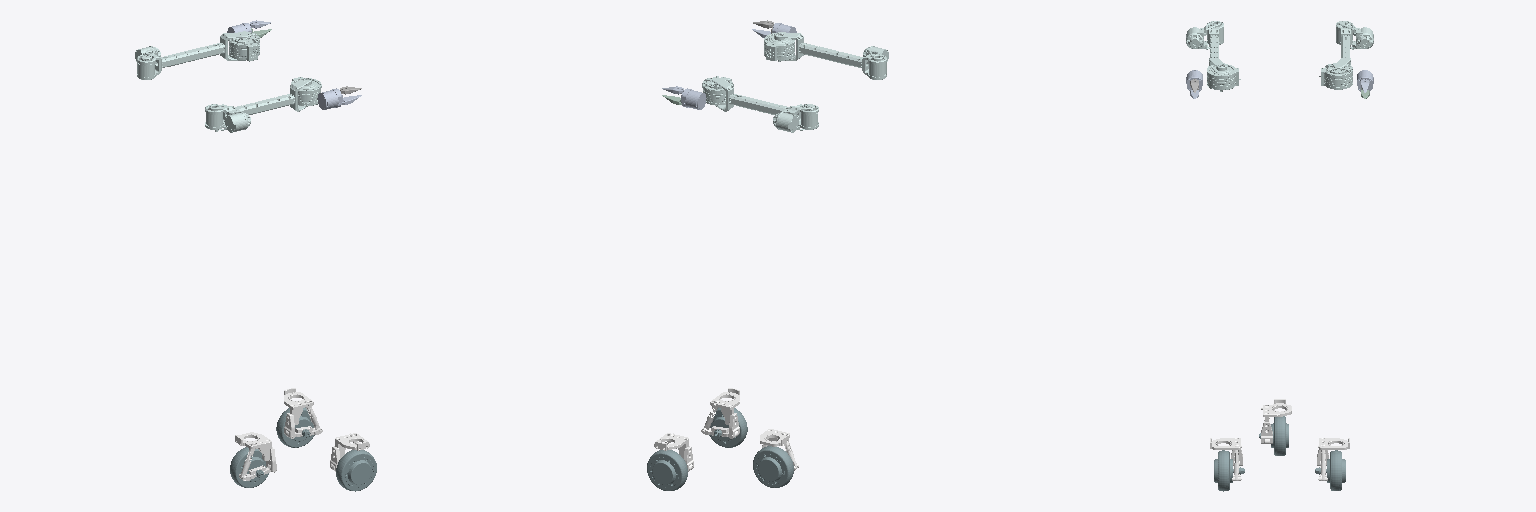
--- What the picture shows (computed from the rendered views, not written in the file) ---
The picture shows the robot from 3 angles, left to right: view 1: azimuth 30°, elevation 25°; view 2: azimuth 150°, elevation 25°; view 3: azimuth 270°, elevation 25°; orthographic projection.
Robot: r1urdfv20 — 24 links, 23 joints (15 revolute, 3 continuous, 4 prismatic, 1 fixed); root link base_link; default pose: all joints at 0.
Links seen in each view (by area): view 1: left_arm_2_Link, front_right_wheel_Link, right_arm_2_Link, rear_turn_Link, front_left_turn_Link, rear_wheel_Link, front_left_wheel_Link, left_arm_1_Link, front_right_turn_Link, right_arm_3_Link; view 2: right_arm_2_Link, rear_wheel_Link, front_left_wheel_Link, left_arm_2_Link, front_right_turn_Link, front_right_wheel_Link, right_arm_1_Link, front_left_turn_Link, left_arm_3_Link, rear_turn_Link, left_arm_1_Link; view 3: left_arm_1_Link, right_arm_1_Link, front_right_wheel_Link, front_left_wheel_Link, rear_turn_Link, front_right_turn_Link, front_left_turn_Link, rear_wheel_Link, right_arm_2_Link, left_arm_2_Link.
Boxes of the visible links, x1,y1,x2,y2 form: left_arm_2_Link: [137, 32, 249, 79]; front_right_wheel_Link: [336, 450, 376, 491]; right_arm_2_Link: [205, 78, 311, 129]; rear_turn_Link: [235, 432, 276, 480]; front_left_turn_Link: [284, 388, 322, 438]; rear_wheel_Link: [230, 447, 268, 487]; front_left_wheel_Link: [276, 407, 314, 447]; left_arm_1_Link: [229, 31, 259, 61]; front_right_turn_Link: [330, 433, 369, 471]; right_arm_3_Link: [209, 104, 250, 132]; right_arm_2_Link: [774, 32, 886, 79]; rear_wheel_Link: [753, 446, 793, 487]; front_left_wheel_Link: [647, 450, 687, 490]; left_arm_2_Link: [712, 78, 818, 129]; front_right_turn_Link: [701, 388, 739, 438]; front_right_wheel_Link: [709, 407, 747, 447]; right_arm_1_Link: [764, 33, 794, 61]; front_left_turn_Link: [654, 433, 693, 471]; left_arm_3_Link: [773, 104, 814, 132]; rear_turn_Link: [760, 429, 798, 470]; left_arm_1_Link: [702, 76, 733, 105]; left_arm_1_Link: [1319, 63, 1352, 89]; right_arm_1_Link: [1207, 64, 1240, 91]; front_right_wheel_Link: [1214, 450, 1244, 491]; front_left_wheel_Link: [1315, 450, 1345, 490]; rear_turn_Link: [1261, 399, 1291, 443]; front_right_turn_Link: [1210, 438, 1242, 480]; front_left_turn_Link: [1317, 438, 1349, 480]; rear_wheel_Link: [1259, 416, 1288, 455]; right_arm_2_Link: [1207, 21, 1226, 70]; left_arm_2_Link: [1333, 21, 1352, 68].
Bounding box of the posed robot: 0.6387 × 0.635 × 1.49 m (x, y, z).
18 mesh visuals loaded from 24 distinct referenced files (18 binary STL); not drawn: 6 (reference not matched to a file when rendering).

URDF robot description (r1urdfv20):
<?xml version="1.0" encoding="utf-8"?>
<!-- This URDF was automatically created by SolidWorks to URDF Exporter! Originally created by Stephen Brawner ([email redacted]) 
     Commit Version: 1.6.0-4-g7f85cfe  Build Version: 1.6.7995.38578
     For more information, please see http://wiki.ros.org/sw_urdf_exporter -->
<robot
  name="r1urdfv20">
  <link
    name="base_link">
    <inertial>
      <origin
        xyz="-0.026382 -0.0012728 0.5966"
        rpy="0 0 0" />
      <mass
        value="15.491" />
      <inertia
        ixx="0.13933"
        ixy="-3.1833E-06"
        ixz="-7.9787E-05"
        iyy="0.090681"
        iyz="-1.7144E-05"
        izz="0.074444" />
    </inertial>
    <visual>
      <origin
        xyz="0 0 0"
        rpy="0 0 0" />
      <geometry>
        <mesh
          filename="package://r1urdfv20/meshes/base_link.STL" />
      </geometry>
      <material
        name="">
        <color
          rgba="0.6 0.6 0.6 1" />
      </material>
    </visual>
    <collision>
      <origin
        xyz="0 0 0"
        rpy="0 0 0" />
      <geometry>
        <mesh
          filename="package://r1urdfv20/meshes/base_link.STL" />
      </geometry>
    </collision>
  </link>
  <link
    name="right_arm_1_Link">
    <inertial>
      <origin
        xyz="0.00048295 0.066513 -4.391E-05"
        rpy="0 0 0" />
      <mass
        value="0.3988" />
      <inertia
        ixx="0.00047196"
        ixy="2.0689E-07"
        ixz="-1.1491E-08"
        iyy="0.00029232"
        iyz="3.8468E-09"
        izz="0.00029753" />
    </inertial>
    <visual>
      <origin
        xyz="0 0 0"
        rpy="0 0 0" />
      <geometry>
        <mesh
          filename="package://r1urdfv20/meshes/right_arm_1_Link.STL" />
      </geometry>
      <material
        name="">
        <color
          rgba="0.86275 0.93333 0.92941 1" />
      </material>
    </visual>
    <collision>
      <origin
        xyz="0 0 0"
        rpy="0 0 0" />
      <geometry>
        <mesh
          filename="package://r1urdfv20/meshes/right_arm_1_Link.STL" />
      </geometry>
    </collision>
  </link>
  <joint
    name="right_arm_1"
    type="revolute">
    <origin
      xyz="-0.055 -0.1293 1.375"
      rpy="3.1416 1.5708 0" />
    <parent
      link="base_link" />
    <child
      link="right_arm_1_Link" />
    <axis
      xyz="0 1 0" />
    <limit
      lower="-2.9671"
      upper="2.9671"
      effort="40"
      velocity="20.944" />
  </joint>
  <link
    name="right_arm_2_Link">
    <inertial>
      <origin
        xyz="0.242 0.032943 -0.021091"
        rpy="0 0 0" />
      <mass
        value="0.3043" />
      <inertia
        ixx="8.211E-05"
        ixy="-8.0136E-07"
        ixz="7.5433E-06"
        iyy="0.0004609"
        iyz="3.4645E-07"
        izz="0.00043677" />
    </inertial>
    <visual>
      <origin
        xyz="0 0 0"
        rpy="0 0 0" />
      <geometry>
        <mesh
          filename="package://r1urdfv20/meshes/right_arm_2_Link.STL" />
      </geometry>
      <material
        name="">
        <color
          rgba="0.86275 0.93333 0.92941 1" />
      </material>
    </visual>
    <collision>
      <origin
        xyz="0 0 0"
        rpy="0 0 0" />
      <geometry>
        <mesh
          filename="package://r1urdfv20/meshes/right_arm_2_Link.STL" />
      </geometry>
    </collision>
  </link>
  <joint
    name="right_arm_2"
    type="revolute">
    <origin
      xyz="0.0316 0.0682 0"
      rpy="1.5708 -1.5708 0" />
    <parent
      link="right_arm_1_Link" />
    <child
      link="right_arm_2_Link" />
    <axis
      xyz="0 1 0" />
    <limit
      lower="0"
      upper="3.1416"
      effort="40"
      velocity="20.944" />
  </joint>
  <link
    name="right_arm_3_Link">
    <inertial>
      <origin
        xyz="0.056289 0.028703 0.046011"
        rpy="0 0 0" />
      <mass
        value="0.17673" />
      <inertia
        ixx="7.1112E-05"
        ixy="7.7555E-08"
        ixz="-1.3314E-05"
        iyy="7.316E-05"
        iyz="1.5614E-07"
        izz="7.8276E-05" />
    </inertial>
    <visual>
      <origin
        xyz="0 0 0"
        rpy="0 0 0" />
      <geometry>
        <mesh
          filename="package://r1urdfv20/meshes/right_arm_3_Link.STL" />
      </geometry>
      <material
        name="">
        <color
          rgba="0.86275 0.93333 0.92941 1" />
      </material>
    </visual>
    <collision>
      <origin
        xyz="0 0 0"
        rpy="0 0 0" />
      <geometry>
        <mesh
          filename="package://r1urdfv20/meshes/right_arm_3_Link.STL" />
      </geometry>
    </collision>
  </link>
  <joint
    name="right_arm_3"
    type="revolute">
    <origin
      xyz="0.3493 0.0602 -0.02"
      rpy="0 1.6424 3.1416" />
    <parent
      link="right_arm_2_Link" />
    <child
      link="right_arm_3_Link" />
    <axis
      xyz="0 -1 0" />
    <limit
      lower="-3.2289"
      upper="0"
      effort="27"
      velocity="7.5398" />
  </joint>
  <link
    name="right_arm_4_Link">
    <inertial>
      <origin
        xyz="-0.00011589 -0.00095341 0.1625"
        rpy="0 0 0" />
      <mass
        value="0.1739" />
      <inertia
        ixx="9.6664E-05"
        ixy="-1.1432E-08"
        ixz="2.2087E-08"
        iyy="0.00010742"
        iyz="8.1899E-08"
        izz="4.3082E-05" />
    </inertial>
    <visual>
      <origin
        xyz="0 0 0"
        rpy="0 0 0" />
      <geometry>
        <mesh
          filename="package://r1urdfv20/meshes/right_arm_4_Link.STL" />
      </geometry>
      <material
        name="">
        <color
          rgba="0.80784 0.84314 0.90588 1" />
      </material>
    </visual>
    <collision>
      <origin
        xyz="0 0 0"
        rpy="0 0 0" />
      <geometry>
        <mesh
          filename="package://r1urdfv20/meshes/right_arm_4_Link.STL" />
      </geometry>
    </collision>
  </link>
  <joint
    name="right_arm_4"
    type="revolute">
    <origin
      xyz="0.064765 0.0286 0.075477"
      rpy="-0.071618 0 1.5708" />
    <parent
      link="right_arm_3_Link" />
    <child
      link="right_arm_4_Link" />
    <axis
      xyz="0 0 1" />
    <limit
      lower="-2.9671"
      upper="2.9671"
      effort="7"
      velocity="25.133" />
  </joint>
  <link
    name="right_arm_5_Link">
    <inertial>
      <origin
        xyz="0.053183 7.0332E-05 -0.015834"
        rpy="0 0 0" />
      <mass
        value="0.12576" />
      <inertia
        ixx="4.7409E-05"
        ixy="-1.1419E-08"
        ixz="-1.355E-07"
        iyy="3.8455E-05"
        iyz="2.2091E-08"
        izz="4.0187E-05" />
    </inertial>
    <visual>
      <origin
        xyz="0 0 0"
        rpy="0 0 0" />
      <geometry>
        <mesh
          filename="package://r1urdfv20/meshes/right_arm_5_Link.STL" />
      </geometry>
      <material
        name="">
        <color
          rgba="0.80784 0.84314 0.90588 1" />
      </material>
    </visual>
    <collision>
      <origin
        xyz="0 0 0"
        rpy="0 0 0" />
      <geometry>
        <mesh
          filename="package://r1urdfv20/meshes/right_arm_5_Link.STL" />
      </geometry>
    </collision>
  </link>
  <joint
    name="right_arm_5"
    type="revolute">
    <origin
      xyz="0 -0.019 0.203"
      rpy="1.5708 -1.5708 0" />
    <parent
      link="right_arm_4_Link" />
    <child
      link="right_arm_5_Link" />
    <axis
      xyz="0 0 1" />
    <limit
      lower="-1.5708"
      upper="1.5708"
      effort="7"
      velocity="25.133" />
  </joint>
  <link
    name="right_arm_6_Link">
    <inertial>
      <origin
        xyz="9.006E-05 -0.015875 1.5779E-05"
        rpy="0 0 0" />
      <mass
        value="0.12251" />
      <inertia
        ixx="3.7405E-05"
        ixy="-1.1418E-08"
        ixz="-2.2072E-08"
        iyy="5.199E-05"
        iyz="-2.2628E-12"
        izz="3.9632E-05" />
    </inertial>
    <visual>
      <origin
        xyz="0 0 0"
        rpy="0 0 0" />
      <geometry>
        <mesh
          filename="package://r1urdfv20/meshes/right_arm_6_Link.STL" />
      </geometry>
      <material
        name="">
        <color
          rgba="0.80784 0.84314 0.90588 1" />
      </material>
    </visual>
    <collision>
      <origin
        xyz="0 0 0"
        rpy="0 0 0" />
      <geometry>
        <mesh
          filename="package://r1urdfv20/meshes/right_arm_6_Link.STL" />
      </geometry>
    </collision>
  </link>
  <joint
    name="right_arm_6"
    type="revolute">
    <origin
      xyz="0.127 0 -0.019"
      rpy="0 0 -1.5708" />
    <parent
      link="right_arm_5_Link" />
    <child
      link="right_arm_6_Link" />
    <axis
      xyz="0 1 0" />
    <limit
      lower="-3.1416"
      upper="3.1416"
      effort="7"
      velocity="25.133" />
  </joint>
  <link
    name="right_gripper_1_Link">
    <inertial>
      <origin
        xyz="0.0151 0.046663 0.0013002"
        rpy="0 0 0" />
      <mass
        value="0.02084" />
      <inertia
        ixx="5.3593E-06"
        ixy="3.2105E-07"
        ixz="8.4132E-08"
        iyy="1.6486E-06"
        iyz="8.4389E-08"
        izz="4.7101E-06" />
    </inertial>
    <visual>
      <origin
        xyz="0 0 0"
        rpy="0 0 0" />
      <geometry>
        <mesh
          filename="package://r1urdfv20/meshes/right_gripper_1_Link.STL" />
      </geometry>
      <material
        name="">
        <color
          rgba="0.80784 0.84314 0.90588 1" />
      </material>
    </visual>
    <collision>
      <origin
        xyz="0 0 0"
        rpy="0 0 0" />
      <geometry>
        <mesh
          filename="package://r1urdfv20/meshes/right_gripper_1_Link.STL" />
      </geometry>
    </collision>
  </link>
  <joint
    name="right_gripper_1"
    type="prismatic">
    <origin
      xyz="0 0 0"
      rpy="0 0 0" />
    <parent
      link="right_arm_6_Link" />
    <child
      link="right_gripper_1_Link" />
    <axis
      xyz="1 0 0" />
    <limit
      lower="-0.01139"
      upper="0.01861"
      effort="200"
      velocity="0.25" />
  </joint>
  <link
    name="right_gripper_2_Link">
    <inertial>
      <origin
        xyz="-0.0151 0.046663 -0.0013002"
        rpy="0 0 0" />
      <mass
        value="0.02084" />
      <inertia
        ixx="5.3593E-06"
        ixy="-3.2105E-07"
        ixz="8.4132E-08"
        iyy="1.6486E-06"
        iyz="-8.439E-08"
        izz="4.7101E-06" />
    </inertial>
    <visual>
      <origin
        xyz="0 0 0"
        rpy="0 0 0" />
      <geometry>
        <mesh
          filename="package://r1urdfv20/meshes/right_gripper_2_Link.STL" />
      </geometry>
      <material
        name="">
        <color
          rgba="0.75294 0.75294 0.75294 1" />
      </material>
    </visual>
    <collision>
      <origin
        xyz="0 0 0"
        rpy="0 0 0" />
      <geometry>
        <mesh
          filename="package://r1urdfv20/meshes/right_gripper_2_Link.STL" />
      </geometry>
    </collision>
  </link>
  <joint
    name="right_gripper_2"
    type="prismatic">
    <origin
      xyz="0 0 0"
      rpy="0 0 0" />
    <parent
      link="right_arm_6_Link" />
    <child
      link="right_gripper_2_Link" />
    <axis
      xyz="-1 0 0" />
    <limit
      lower="-0.01139"
      upper="0.01861"
      effort="200"
      velocity="0.25" />
  </joint>
  <link
    name="left_arm_1_Link">
    <inertial>
      <origin
        xyz="0.00048295 -0.066513 4.391E-05"
        rpy="0 0 0" />
      <mass
        value="0.3988" />
      <inertia
        ixx="0.00047196"
        ixy="-2.0689E-07"
        ixz="1.1491E-08"
        iyy="0.00029232"
        iyz="3.8468E-09"
        izz="0.00029753" />
    </inertial>
    <visual>
      <origin
        xyz="0 0 0"
        rpy="0 0 0" />
      <geometry>
        <mesh
          filename="package://r1urdfv20/meshes/left_arm_1_Link.STL" />
      </geometry>
      <material
        name="">
        <color
          rgba="0.86275 0.93333 0.92941 1" />
      </material>
    </visual>
    <collision>
      <origin
        xyz="0 0 0"
        rpy="0 0 0" />
      <geometry>
        <mesh
          filename="package://r1urdfv20/meshes/left_arm_1_Link.STL" />
      </geometry>
    </collision>
  </link>
  <joint
    name="left_arm_1"
    type="revolute">
    <origin
      xyz="-0.055 0.1293 1.375"
      rpy="0 -1.5708 3.14159265358979" />
    <parent
      link="base_link" />
    <child
      link="left_arm_1_Link" />
    <axis
      xyz="0 -1 0" />
    <limit
      lower="-2.9671"
      upper="2.9671"
      effort="40"
      velocity="20.944" />
  </joint>
  <link
    name="left_arm_2_Link">
    <inertial>
      <origin
        xyz="0.242 0.032943 -0.021091"
        rpy="0 0 0" />
      <mass
        value="0.3043" />
      <inertia
        ixx="8.211E-05"
        ixy="-8.0136E-07"
        ixz="7.5433E-06"
        iyy="0.0004609"
        iyz="3.4645E-07"
        izz="0.00043677" />
    </inertial>
    <visual>
      <origin
        xyz="0 0 0"
        rpy="0 0 0" />
      <geometry>
        <mesh
          filename="package://r1urdfv20/meshes/left_arm_2_Link.STL" />
      </geometry>
      <material
        name="">
        <color
          rgba="0.86275 0.93333 0.92941 1" />
      </material>
    </visual>
    <collision>
      <origin
        xyz="0 0 0"
        rpy="0 0 0" />
      <geometry>
        <mesh
          filename="package://r1urdfv20/meshes/left_arm_2_Link.STL" />
      </geometry>
    </collision>
  </link>
  <joint
    name="left_arm_2"
    type="revolute">
    <origin
      xyz="0.0316 -0.0682 0"
      rpy="-1.5708 1.5708 0" />
    <parent
      link="left_arm_1_Link" />
    <child
      link="left_arm_2_Link" />
    <axis
      xyz="0 1 0" />
    <limit
      lower="0"
      upper="3.1416"
      effort="40"
      velocity="20.944" />
  </joint>
  <link
    name="left_arm_3_Link">
    <inertial>
      <origin
        xyz="0.056289 0.028703 0.046011"
        rpy="0 0 0" />
      <mass
        value="0.17673" />
      <inertia
        ixx="7.1112E-05"
        ixy="7.755E-08"
        ixz="-1.3314E-05"
        iyy="7.316E-05"
        iyz="1.5613E-07"
        izz="7.8276E-05" />
    </inertial>
    <visual>
      <origin
        xyz="0 0 0"
        rpy="0 0 0" />
      <geometry>
        <mesh
          filename="package://r1urdfv20/meshes/left_arm_3_Link.STL" />
      </geometry>
      <material
        name="">
        <color
          rgba="0.86275 0.93333 0.92941 1" />
      </material>
    </visual>
    <collision>
      <origin
        xyz="0 0 0"
        rpy="0 0 0" />
      <geometry>
        <mesh
          filename="package://r1urdfv20/meshes/left_arm_3_Link.STL" />
      </geometry>
    </collision>
  </link>
  <joint
    name="left_arm_3"
    type="revolute">
    <origin
      xyz="0.3493 0.0602 -0.02"
      rpy="0 1.6424 3.1416" />
    <parent
      link="left_arm_2_Link" />
    <child
      link="left_arm_3_Link" />
    <axis
      xyz="0 -1 0" />
    <limit
      lower="-3.2289"
      upper="0"
      effort="27"
      velocity="7.5398" />
  </joint>
  <link
    name="left_arm_4_Link">
    <inertial>
      <origin
        xyz="0.00011589 0.00095341 0.1725"
        rpy="0 0 0" />
      <mass
        value="0.1739" />
      <inertia
        ixx="9.6664E-05"
        ixy="-1.1432E-08"
        ixz="-2.2087E-08"
        iyy="0.00010742"
        iyz="-8.1899E-08"
        izz="4.3082E-05" />
    </inertial>
    <visual>
      <origin
        xyz="0 0 0"
        rpy="0 0 0" />
      <geometry>
        <mesh
          filename="package://r1urdfv20/meshes/left_arm_4_Link.STL" />
      </geometry>
      <material
        name="">
        <color
          rgba="0.80784 0.84314 0.90588 1" />
      </material>
    </visual>
    <collision>
      <origin
        xyz="0 0 0"
        rpy="0 0 0" />
      <geometry>
        <mesh
          filename="package://r1urdfv20/meshes/left_arm_4_Link.STL" />
      </geometry>
    </collision>
  </link>
  <joint
    name="left_arm_4"
    type="revolute">
    <origin
      xyz="0.065481 0.0286 0.065502"
      rpy="0.071618 0 -1.5708" />
    <parent
      link="left_arm_3_Link" />
    <child
      link="left_arm_4_Link" />
    <axis
      xyz="0 0 1" />
    <limit
      lower="-2.9671"
      upper="2.9671"
      effort="7"
      velocity="25.133" />
  </joint>
  <link
    name="left_arm_5_Link">
    <inertial>
      <origin
        xyz="0.053183 7.0332E-05 -0.015834"
        rpy="0 0 0" />
      <mass
        value="0.12576" />
      <inertia
        ixx="4.7409E-05"
        ixy="-1.1419E-08"
        ixz="-1.355E-07"
        iyy="3.8455E-05"
        iyz="2.2091E-08"
        izz="4.0187E-05" />
    </inertial>
    <visual>
      <origin
        xyz="0 0 0"
        rpy="0 0 0" />
      <geometry>
        <mesh
          filename="package://r1urdfv20/meshes/left_arm_5_Link.STL" />
      </geometry>
      <material
        name="">
        <color
          rgba="0.80784 0.84314 0.90588 1" />
      </material>
    </visual>
    <collision>
      <origin
        xyz="0 0 0"
        rpy="0 0 0" />
      <geometry>
        <mesh
          filename="package://r1urdfv20/meshes/left_arm_5_Link.STL" />
      </geometry>
    </collision>
  </link>
  <joint
    name="left_arm_5"
    type="revolute">
    <origin
      xyz="0 0.019 0.213"
      rpy="1.5708 -1.5708 3.1416" />
    <parent
      link="left_arm_4_Link" />
    <child
      link="left_arm_5_Link" />
    <axis
      xyz="0 0 1" />
    <limit
      lower="-1.5708"
      upper="1.5708"
      effort="7"
      velocity="25.133" />
  </joint>
  <link
    name="left_arm_6_Link">
    <inertial>
      <origin
        xyz="9.006E-05 0.015875 -1.5779E-05"
        rpy="0 0 0" />
      <mass
        value="0.12251" />
      <inertia
        ixx="3.7405E-05"
        ixy="1.1418E-08"
        ixz="2.2072E-08"
        iyy="5.199E-05"
        iyz="-2.2628E-12"
        izz="3.9632E-05" />
    </inertial>
    <visual>
      <origin
        xyz="0 0 0"
        rpy="0 0 0" />
      <geometry>
        <mesh
          filename="package://r1urdfv20/meshes/left_arm_6_Link.STL" />
      </geometry>
      <material
        name="">
        <color
          rgba="0.80784 0.84314 0.90588 1" />
      </material>
    </visual>
    <collision>
      <origin
        xyz="0 0 0"
        rpy="0 0 0" />
      <geometry>
        <mesh
          filename="package://r1urdfv20/meshes/left_arm_6_Link.STL" />
      </geometry>
    </collision>
  </link>
  <joint
    name="left_arm_6"
    type="revolute">
    <origin
      xyz="0.127 0 -0.019"
      rpy="-3.1416 0 -1.5708" />
    <parent
      link="left_arm_5_Link" />
    <child
      link="left_arm_6_Link" />
    <axis
      xyz="0 -1 0" />
    <limit
      lower="-1.5708"
      upper="1.5708"
      effort="7"
      velocity="25.133" />
  </joint>
  <link
    name="left_gripper_1_Link">
    <inertial>
      <origin
        xyz="0.0151 -0.046663 -0.0013002"
        rpy="0 0 0" />
      <mass
        value="0.02084" />
      <inertia
        ixx="5.3593E-06"
        ixy="-3.2105E-07"
        ixz="-8.4132E-08"
        iyy="1.6486E-06"
        iyz="8.4389E-08"
        izz="4.7101E-06" />
    </inertial>
    <visual>
      <origin
        xyz="0 0 0"
        rpy="0 0 0" />
      <geometry>
        <mesh
          filename="package://r1urdfv20/meshes/left_gripper_1_Link.STL" />
      </geometry>
      <material
        name="">
        <color
          rgba="0.80784 0.84314 0.90588 1" />
      </material>
    </visual>
    <collision>
      <origin
        xyz="0 0 0"
        rpy="0 0 0" />
      <geometry>
        <mesh
          filename="package://r1urdfv20/meshes/left_gripper_1_Link.STL" />
      </geometry>
    </collision>
  </link>
  <joint
    name="left_gripper_1"
    type="prismatic">
    <origin
      xyz="0 0 0"
      rpy="0 0 0" />
    <parent
      link="left_arm_6_Link" />
    <child
      link="left_gripper_1_Link" />
    <axis
      xyz="1 0 0" />
    <limit
      lower="-0.01139"
      upper="0.01861"
      effort="200"
      velocity="0.25" />
  </joint>
  <link
    name="left_gripper_2_Link">
    <inertial>
      <origin
        xyz="-0.0151 -0.046663 0.0013002"
        rpy="0 0 0" />
      <mass
        value="0.02084" />
      <inertia
        ixx="5.3593E-06"
        ixy="3.2105E-07"
        ixz="-8.4132E-08"
        iyy="1.6486E-06"
        iyz="-8.439E-08"
        izz="4.7101E-06" />
    </inertial>
    <visual>
      <origin
        xyz="0 0 0"
        rpy="0 0 0" />
      <geometry>
        <mesh
          filename="package://r1urdfv20/meshes/left_gripper_2_Link.STL" />
      </geometry>
      <material
        name="">
        <color
          rgba="0.71765 0.80784 0.76471 1" />
      </material>
    </visual>
    <collision>
      <origin
        xyz="0 0 0"
        rpy="0 0 0" />
      <geometry>
        <mesh
          filename="package://r1urdfv20/meshes/left_gripper_2_Link.STL" />
      </geometry>
    </collision>
  </link>
  <joint
    name="left_gripper_2"
    type="prismatic">
    <origin
      xyz="0 0 0"
      rpy="0 0 0" />
    <parent
      link="left_arm_6_Link" />
    <child
      link="left_gripper_2_Link" />
    <axis
      xyz="-1 0 0" />
    <limit
      lower="-0.01139"
      upper="0.01861"
      effort="200"
      velocity="0.25" />
  </joint>
  <link
    name="front_right_turn_Link">
    <inertial>
      <origin
        xyz="-0.012414 0.032699 -0.046417"
        rpy="0 0 0" />
      <mass
        value="0.16675" />
      <inertia
        ixx="7.3159E-05"
        ixy="3.7819E-06"
        ixz="3.7917E-06"
        iyy="9.3643E-05"
        iyz="-4.3522E-07"
        izz="0.00011402" />
    </inertial>
    <visual>
      <origin
        xyz="0 0 0"
        rpy="0 0 0" />
      <geometry>
        <mesh
          filename="package://r1urdfv20/meshes/front_right_turn_Link.STL" />
      </geometry>
      <material
        name="">
        <color
          rgba="1 1 1 1" />
      </material>
    </visual>
    <collision>
      <origin
        xyz="0 0 0"
        rpy="0 0 0" />
      <geometry>
        <mesh
          filename="package://r1urdfv20/meshes/front_right_turn_Link.STL" />
      </geometry>
    </collision>
  </link>
  <joint
    name="front_right_turn"
    type="revolute">
    <origin
      xyz="0.134 -0.19 0.093"
      rpy="0 0 0" />
    <parent
      link="base_link" />
    <child
      link="front_right_turn_Link" />
    <axis
      xyz="0 0 1" />
    <limit
      lower="-1.5708"
      upper="1.5708"
      effort="30"
      velocity="3.1416" />
  </joint>
  <link
    name="front_right_wheel_Link">
    <inertial>
      <origin
        xyz="-0.012646 4.103E-08 1.2733E-07"
        rpy="0 0 0" />
      <mass
        value="0.50128" />
      <inertia
        ixx="0.001126"
        ixy="-7.075E-12"
        ixz="-5.024E-10"
        iyy="0.00060866"
        iyz="4.3853E-10"
        izz="0.00060864" />
    </inertial>
    <visual>
      <origin
        xyz="0 0 0"
        rpy="0 0 0" />
      <geometry>
        <mesh
          filename="package://r1urdfv20/meshes/front_right_wheel_Link.STL" />
      </geometry>
      <material
        name="">
        <color
          rgba="0.59216 0.66667 0.68235 1" />
      </material>
    </visual>
    <collision>
      <origin
        xyz="0 0 0"
        rpy="0 0 0" />
      <geometry>
        <mesh
          filename="package://r1urdfv20/meshes/front_right_wheel_Link.STL" />
      </geometry>
    </collision>
  </link>
  <joint
    name="front_right_wheel"
    type="continuous">
    <origin
      xyz="0.00093535 0.01445 -0.098784"
      rpy="1.6618 0 1.5708" />
    <parent
      link="front_right_turn_Link" />
    <child
      link="front_right_wheel_Link" />
    <axis
      xyz="1 0 0" />
    <limit
      lower="-31416"
      upper="31416"
      effort="3.2"
      velocity="14.389" />
  </joint>
  <link
    name="rear_turn_Link">
    <inertial>
      <origin
        xyz="0.010502 -0.033391 -0.045748"
        rpy="0 0 0" />
      <mass
        value="0.16929" />
      <inertia
        ixx="7.5887E-05"
        ixy="5.053E-06"
        ixz="-3.7803E-06"
        iyy="9.6739E-05"
        iyz="4.7274E-07"
        izz="0.0001198" />
    </inertial>
    <visual>
      <origin
        xyz="0 0 0"
        rpy="0 0 0" />
      <geometry>
        <mesh
          filename="package://r1urdfv20/meshes/rear_turn_Link.STL" />
      </geometry>
      <material
        name="">
        <color
          rgba="1 1 1 1" />
      </material>
    </visual>
    <collision>
      <origin
        xyz="0 0 0"
        rpy="0 0 0" />
      <geometry>
        <mesh
          filename="package://r1urdfv20/meshes/rear_turn_Link.STL" />
      </geometry>
    </collision>
  </link>
  <joint
    name="rear_turn"
    type="revolute">
    <origin
      xyz="-0.145 0 0.093"
      rpy="0 0 0" />
    <parent
      link="base_link" />
    <child
      link="rear_turn_Link" />
    <axis
      xyz="0 0 1" />
    <limit
      lower="-1.5708"
      upper="1.5708"
      effort="30"
      velocity="3.1416" />
  </joint>
  <link
    name="rear_wheel_Link">
    <inertial>
      <origin
        xyz="-0.012646 4.103E-08 1.2733E-07"
        rpy="0 0 0" />
      <mass
        value="0.50128" />
      <inertia
        ixx="0.001126"
        ixy="-7.075E-12"
        ixz="-5.024E-10"
        iyy="0.00060866"
        iyz="4.3853E-10"
        izz="0.00060864" />
    </inertial>
    <visual>
      <origin
        xyz="0 0 0"
        rpy="0 0 0" />
      <geometry>
        <mesh
          filename="package://r1urdfv20/meshes/rear_wheel_Link.STL" />
      </geometry>
      <material
        name="">
        <color
          rgba="0.59216 0.66667 0.68235 1" />
      </material>
    </visual>
    <collision>
      <origin
        xyz="0 0 0"
        rpy="0 0 0" />
      <geometry>
        <mesh
          filename="package://r1urdfv20/meshes/rear_wheel_Link.STL" />
      </geometry>
    </collision>
  </link>
  <joint
    name="rear_wheel"
    type="continuous">
    <origin
      xyz="-0.00093535 -0.01445 -0.098784"
      rpy="1.6618 0 -1.5708" />
    <parent
      link="rear_turn_Link" />
    <child
      link="rear_wheel_Link" />
    <axis
      xyz="-1 0 0" />
    <limit
      lower="-31416"
      upper="31416"
      effort="3.2"
      velocity="14.389" />
  </joint>
  <link
    name="front_left_turn_Link">
    <inertial>
      <origin
        xyz="-0.01239 -0.032748 -0.046377"
        rpy="0 0 0" />
      <mass
        value="0.16689" />
      <inertia
        ixx="7.3217E-05"
        ixy="-3.8098E-06"
        ixz="3.7915E-06"
        iyy="9.3648E-05"
        iyz="-4.4278E-07"
        izz="0.00011408" />
    </inertial>
    <visual>
      <origin
        xyz="0 0 0"
        rpy="0 0 0" />
      <geometry>
        <mesh
          filename="package://r1urdfv20/meshes/front_left_turn_Link.STL" />
      </geometry>
      <material
        name="">
        <color
          rgba="1 1 1 1" />
      </material>
    </visual>
    <collision>
      <origin
        xyz="0 0 0"
        rpy="0 0 0" />
      <geometry>
        <mesh
          filename="package://r1urdfv20/meshes/front_left_turn_Link.STL" />
      </geometry>
    </collision>
  </link>
  <joint
    name="front_left_turn"
    type="revolute">
    <origin
      xyz="0.134 0.19 0.093"
      rpy="0 0 0" />
    <parent
      link="base_link" />
    <child
      link="front_left_turn_Link" />
    <axis
      xyz="0 0 1" />
    <limit
      lower="-1.5708"
      upper="1.5708"
      effort="30"
      velocity="3.1416" />
  </joint>
  <link
    name="front_left_wheel_Link">
    <inertial>
      <origin
        xyz="-0.012646 4.103E-08 1.2733E-07"
        rpy="0 0 0" />
      <mass
        value="0.50128" />
      <inertia
        ixx="0.001126"
        ixy="-7.0758E-12"
        ixz="-5.024E-10"
        iyy="0.00060866"
        iyz="1.9226E-09"
        izz="0.00060863" />
    </inertial>
    <visual>
      <origin
        xyz="0 0 0"
        rpy="0 0 0" />
      <geometry>
        <mesh
          filename="package://r1urdfv20/meshes/front_left_wheel_Link.STL" />
      </geometry>
      <material
        name="">
        <color
          rgba="0.59216 0.66667 0.68235 1" />
      </material>
    </visual>
    <collision>
      <origin
        xyz="0 0 0"
        rpy="0 0 0" />
      <geometry>
        <mesh
          filename="package://r1urdfv20/meshes/front_left_wheel_Link.STL" />
      </geometry>
    </collision>
  </link>
  <joint
    name="front_left_wheel"
    type="continuous">
    <origin
      xyz="0.00093535 -0.01445 -0.098784"
      rpy="1.4605 0 -1.5708" />
    <parent
      link="front_left_turn_Link" />
    <child
      link="front_left_wheel_Link" />
    <axis
      xyz="-1 0 0" />
    <limit
      lower="-31416"
      upper="31416"
      effort="3.2"
      velocity="14.389" />
  </joint>
  <link
    name="realsensecamera_link">
    <inertial>
      <origin
        xyz="0 0 0"
        rpy="0 0 0" />
      <mass
        value="0" />
      <inertia
        ixx="0"
        ixy="0"
        ixz="0"
        iyy="0"
        iyz="0"
        izz="0" />
    </inertial>
    <visual>
      <origin
        xyz="0 0 0"
        rpy="0 0 0" />
      <geometry>
        <mesh
          filename="package://r1urdfv20/meshes/realsensecamera_link.STL" />
      </geometry>
      <material
        name="">
        <color
          rgba="1 1 1 1" />
      </material>
    </visual>
    <collision>
      <origin
        xyz="0 0 0"
        rpy="0 0 0" />
      <geometry>
        <mesh
          filename="package://r1urdfv20/meshes/realsensecamera_link.STL" />
      </geometry>
    </collision>
  </link>
  <joint
    name="realsensecamera_joint"
    type="fixed">
    <origin
      xyz="-0.053794 0 1.4848"
      rpy="2.0071 0 1.5708" />
    <parent
      link="base_link" />
    <child
      link="realsensecamera_link" />
    <axis
      xyz="0 0 0" />
  </joint>
</robot>
